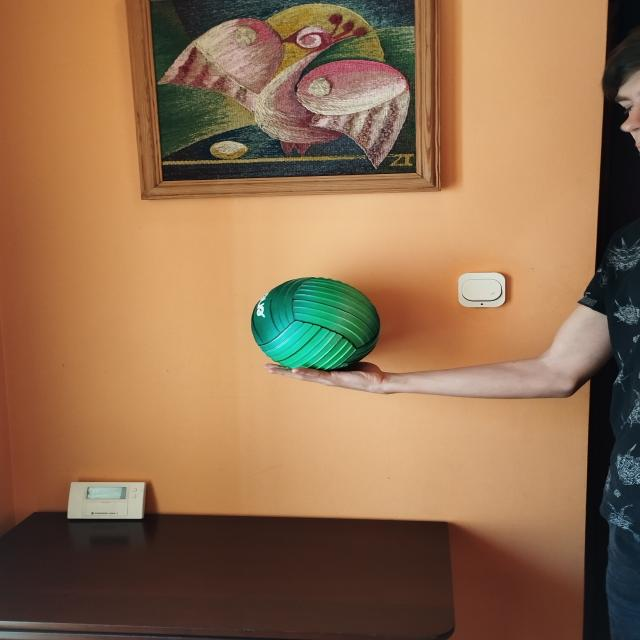zielona: (251, 277, 381, 372)
